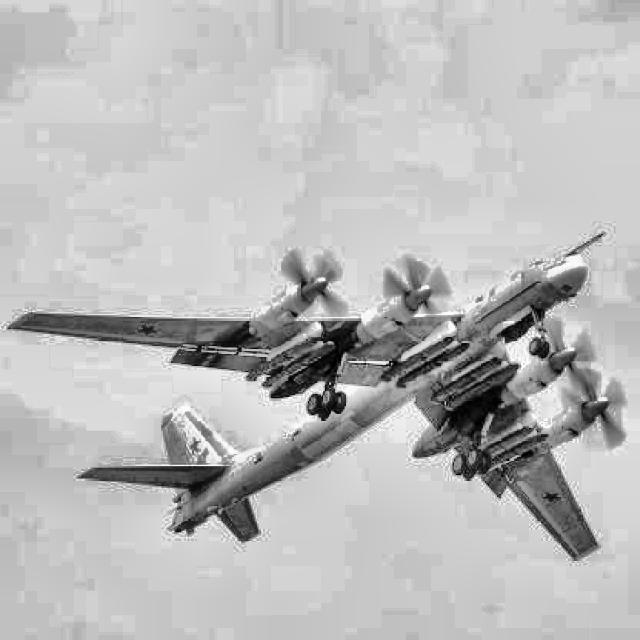Tu95: (6, 230, 626, 562)
